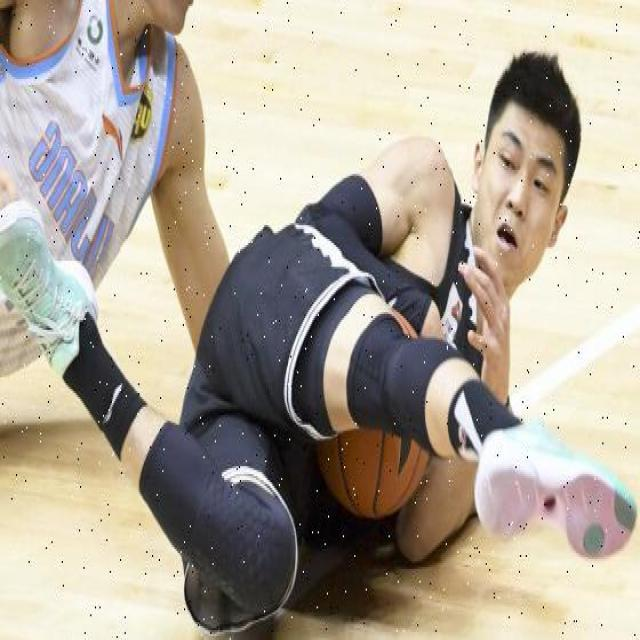fall: (172, 58, 592, 638)
